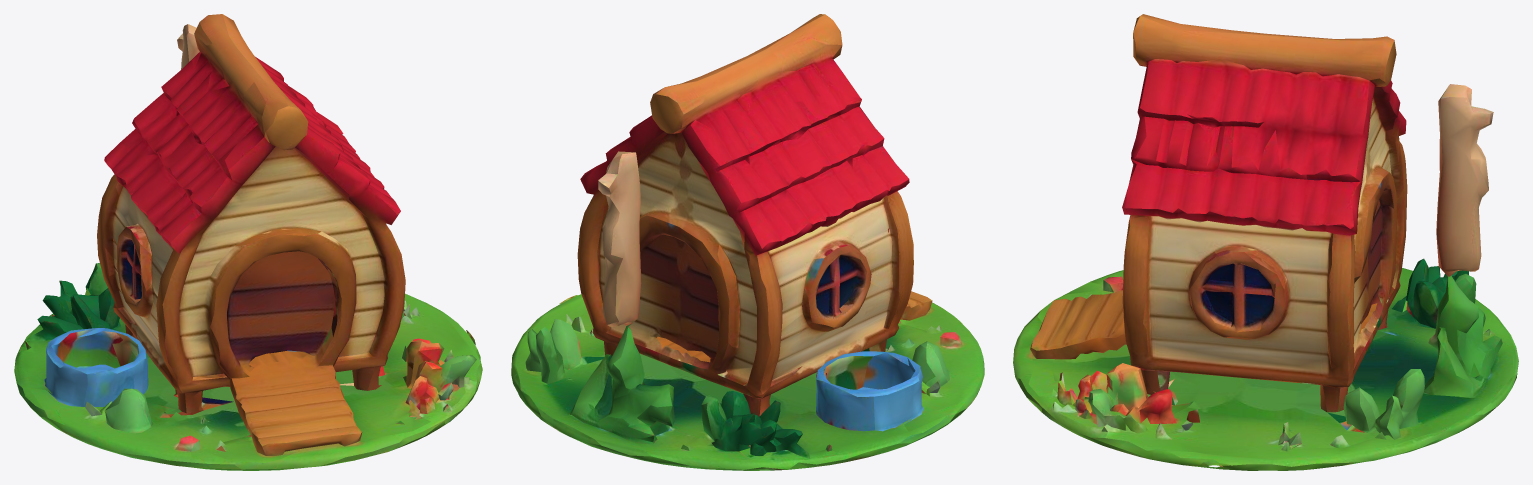
Rendered from duckhouse.glb.
3 renders of one model, left to right at view 1: azimuth 30°, elevation 25°; view 2: azimuth 150°, elevation 25°; view 3: azimuth 270°, elevation 25°, orthographic. The views are drawn at different scales.
Parts seen in each view (by area): view 1: duckhouse; view 2: duckhouse; view 3: duckhouse.
Boxes of the visible parts, x1,y1,x2,y2 form: duckhouse: [14, 14, 482, 470]; duckhouse: [511, 14, 984, 470]; duckhouse: [1013, 14, 1518, 470].
Size of the model in its own units: 0.9998 by 0.7415 by 1.
Materials: 1 (1 with a texture image).
